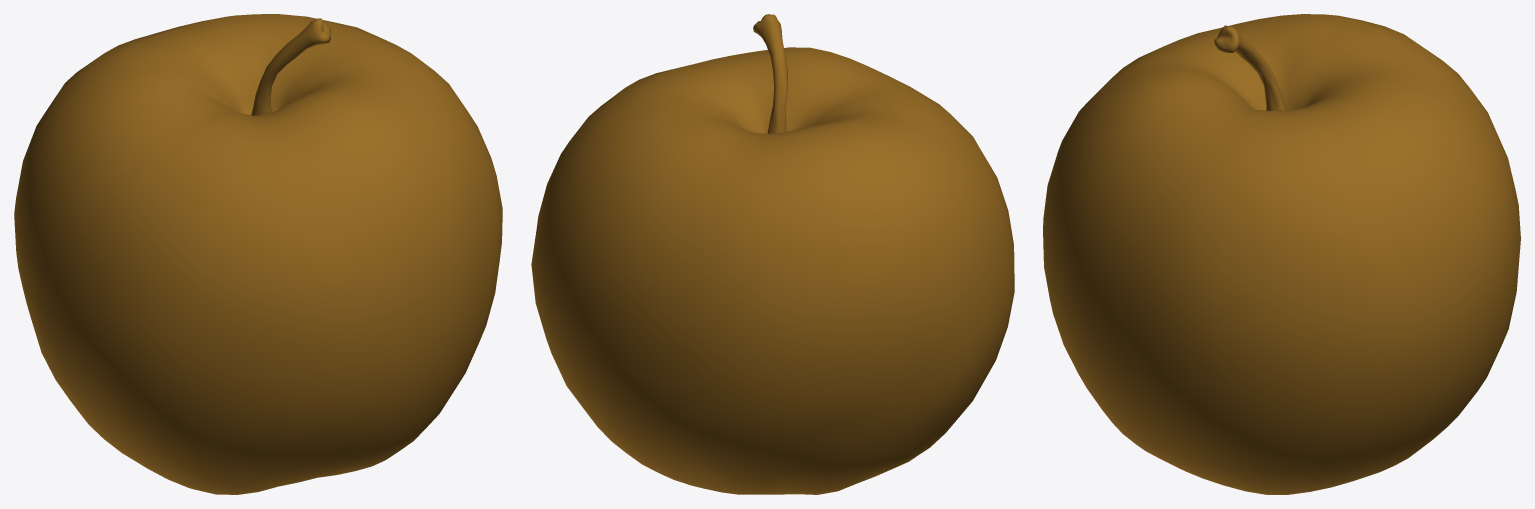
The model's file is apple.dae.
3 renders of one model, left to right at view 1: azimuth 30°, elevation 25°; view 2: azimuth 150°, elevation 25°; view 3: azimuth 270°, elevation 25°, orthographic. The views are drawn at different scales.
Parts seen in each view (by area): view 1: BB_054; view 2: BB_054; view 3: BB_054.
Boxes of the visible parts, box(x1,y1,x2,y2) form: BB_054: box(14, 14, 502, 494); BB_054: box(531, 14, 1014, 494); BB_054: box(1043, 14, 1520, 494).
Size of the model in its own units: 0.1032 by 0.1001 by 0.1008.
